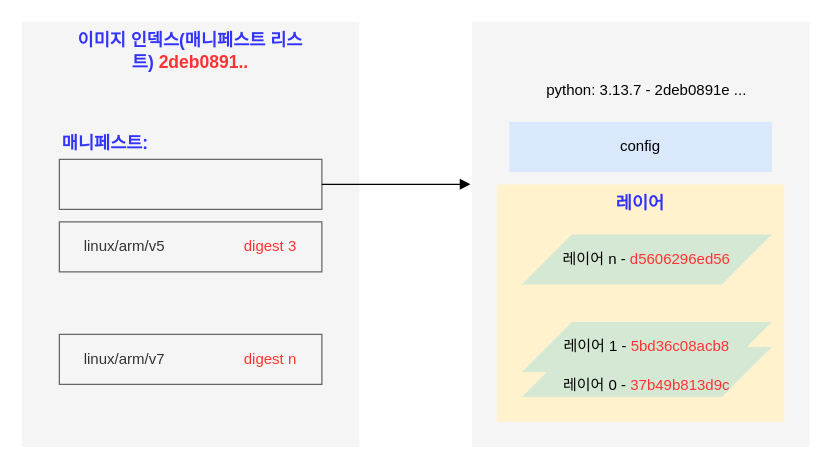
This 830x468 diagram has some shape labels left out. The shapes that lost their labels are listed below. From the top down, each one's box as (x1, y1, x2, y2) in pixels, then its label:
(58, 158, 322, 209): linux/amd64 9f6629a0ec...
(471, 21, 809, 446): 이미지 매니페스트 9f6629a0ec...
